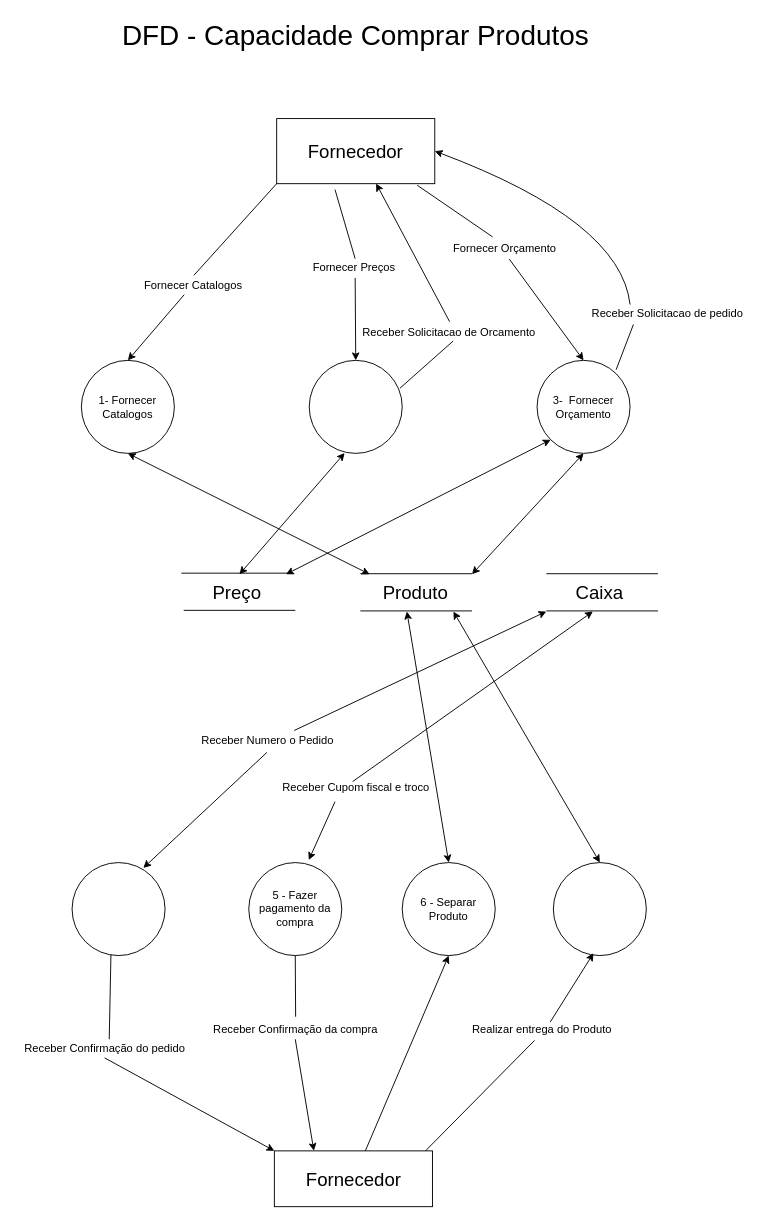
Image size: 766x1223. Some labels were removed from this diagram. Here are the shapes that lost their labels. From the top down, the centre of each, then its label:
the point at 355,406: 2- Fornecer Cotação
the point at 118,909: 4 - Fazer Pedido
the point at 599,909: 7 - Fornecer Produto
